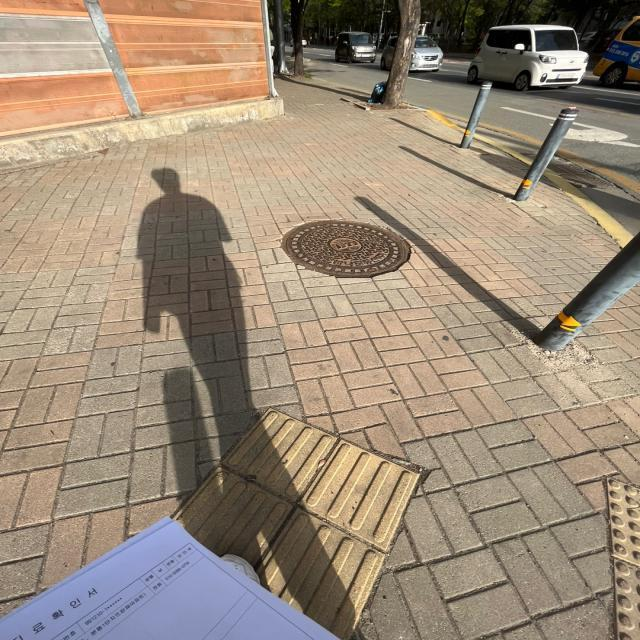manhole: (282, 220, 410, 278)
